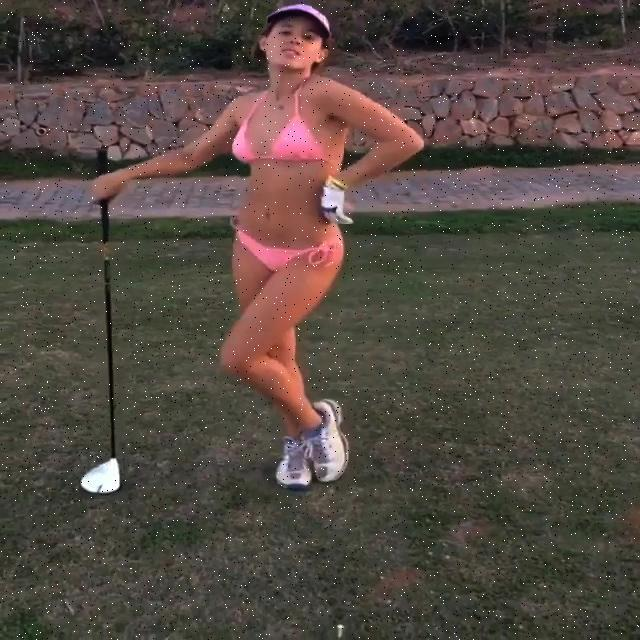ClubHead: (79, 455, 124, 494)
